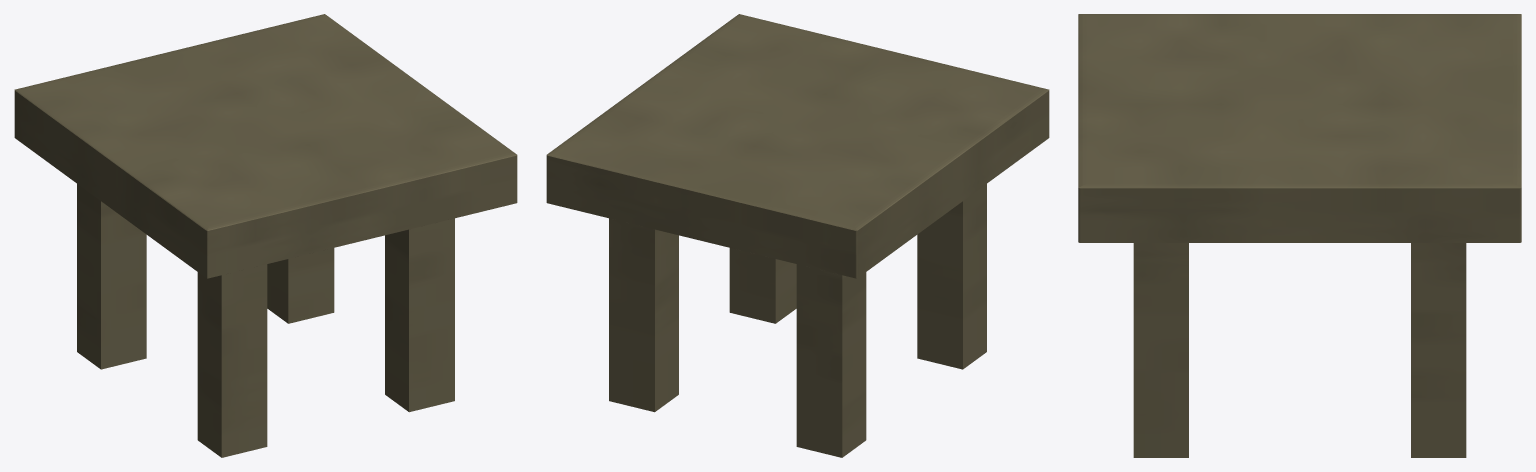
File: NightStand.glb
The picture shows the model from 3 angles, left to right: view 1: azimuth 30°, elevation 25°; view 2: azimuth 150°, elevation 25°; view 3: azimuth 270°, elevation 25°; orthographic projection. The views are drawn at different scales.
Visible parts, largest first — view 1: NightStand_Baked; view 2: NightStand_Baked; view 3: NightStand_Baked.
Boxes of the visible parts, bbox=[...] form: NightStand_Baked: bbox=[14, 14, 517, 457]; NightStand_Baked: bbox=[546, 14, 1049, 457]; NightStand_Baked: bbox=[1078, 14, 1521, 457].
Bounding box in the file's own units: 3.15 × 2.47 × 3.39.
Materials: 1 (1 with a texture image).
